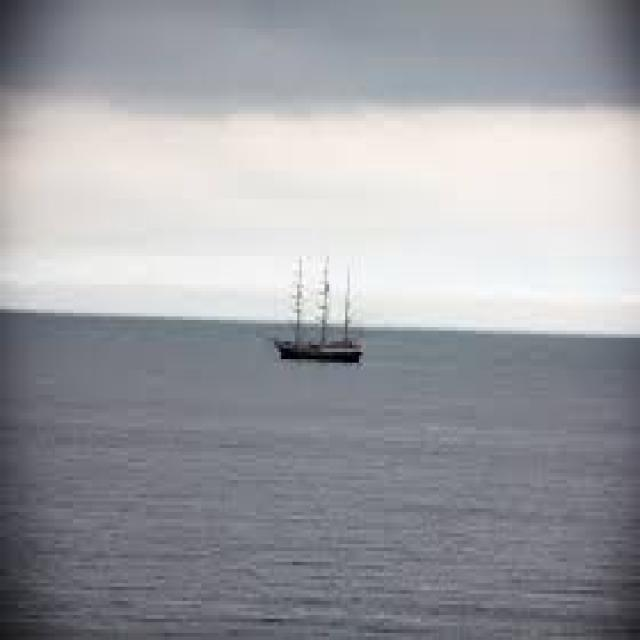fishing boat: (274, 263, 371, 365)
